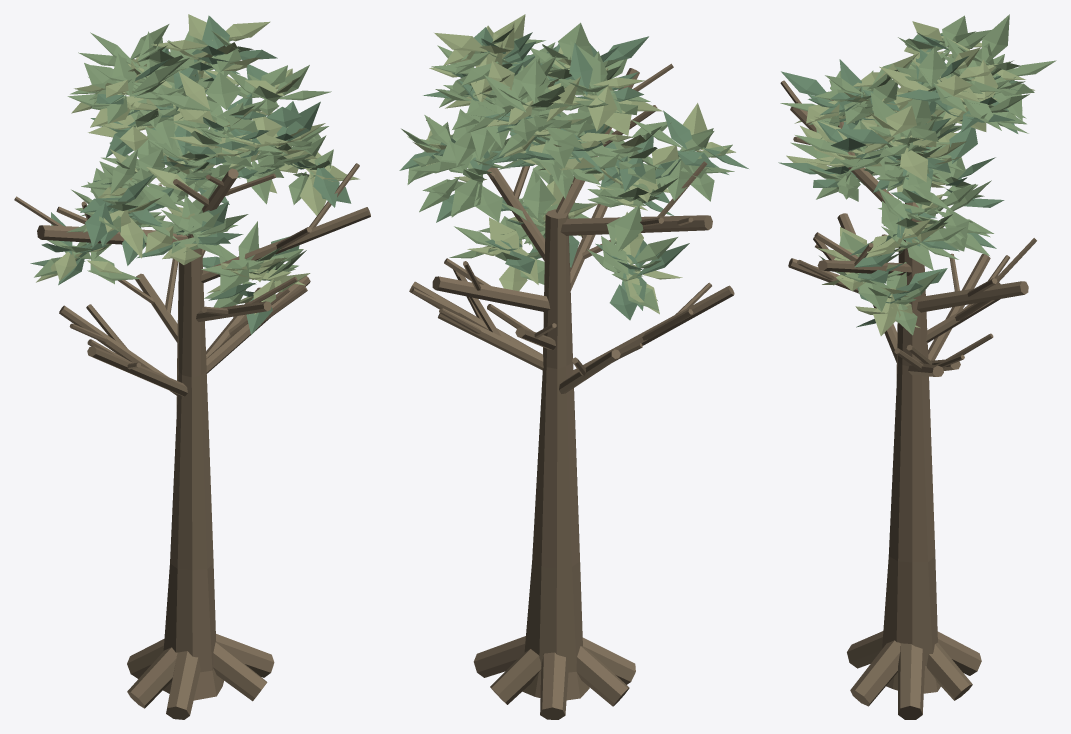
Rendered from broadleaf_a.glb.
3 renders of one model, left to right at view 1: azimuth 30°, elevation 25°; view 2: azimuth 150°, elevation 25°; view 3: azimuth 270°, elevation 25°, orthographic. The views are drawn at different scales.
Visible parts, largest first — view 1: broadleaf_a LOD0; view 2: broadleaf_a LOD0; view 3: broadleaf_a LOD0.
Part boxes in pixels (<box>): broadleaf_a LOD0: <box>14,14,370,719</box>; broadleaf_a LOD0: <box>399,14,748,719</box>; broadleaf_a LOD0: <box>778,14,1056,719</box>.
Size of what is drawn, in the model's own units: 4.62 by 9.45 by 3.65.
